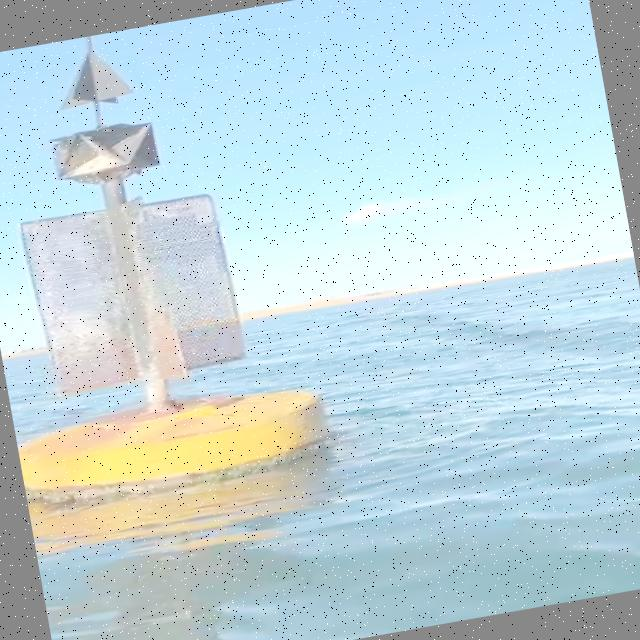marque: (1, 8, 332, 513)
